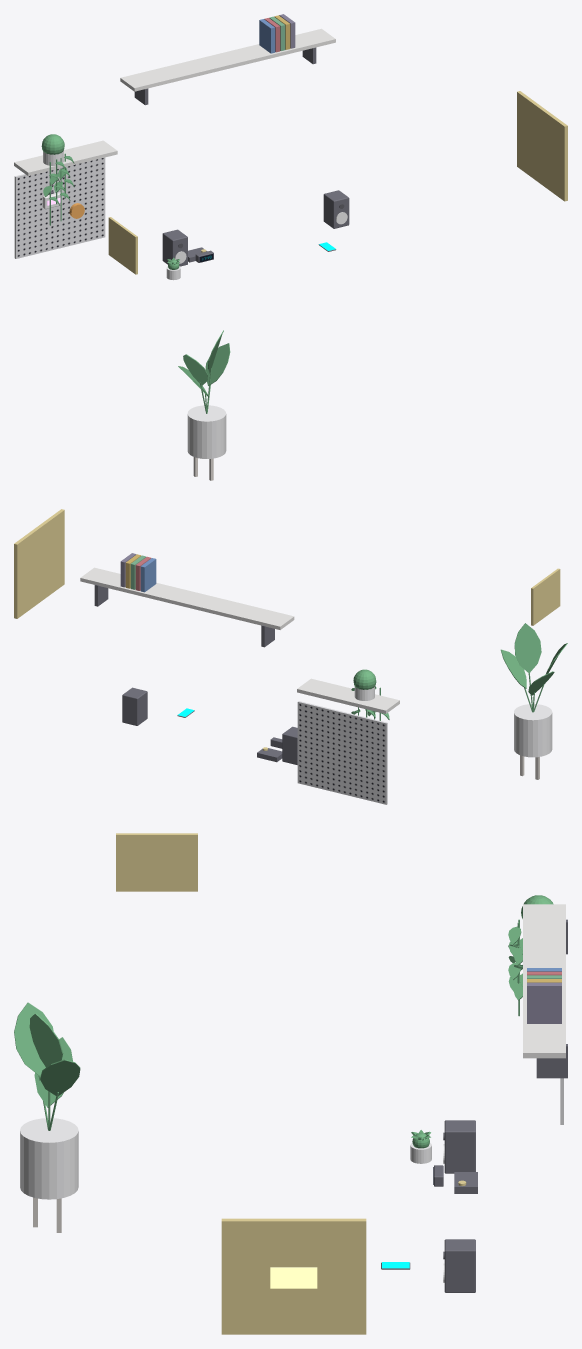
Rendered from group-b-props.95867245.glb.
3 views of the same model, one above another, from view 1: azimuth 30°, elevation 25°; view 2: azimuth 150°, elevation 25°; view 3: azimuth 270°, elevation 25° (orthographic). The views are drawn at different scales.
Visible parts, largest first — view 1: pegboard_panel, painting_frame, shelf_rear_upper, pot_monstera, shelf_rear_lower, certificate_frame, speaker_right_cabinet, speaker_left_cabinet; view 2: pegboard_panel, painting_frame, shelf_rear_upper, pot_monstera, shelf_rear_lower, certificate_frame, monstera_leaf_4, speaker_right_cabinet, speaker_left_cabinet, book_vol_1, monstera_leaf_2, ivy_mound; view 3: painting_frame, certificate_frame, shelf_rear_upper, pot_monstera, speaker_right_cabinet, speaker_left_cabinet, book_vol_5, monstera_leaf_3, monstera_leaf_4, hidden-yor-mark, monstera_leaf_2, shelf_bracket_r.
Part boxes in pixels (x1,y1,x2,y2): pegboard_panel: (14,157,105,258); painting_frame: (517,91,567,201); shelf_rear_upper: (120,28,335,91); pot_monstera: (187,405,226,458); shelf_rear_lower: (14,140,117,176); certificate_frame: (108,217,137,274); speaker_right_cabinet: (323,190,349,228); speaker_left_cabinet: (162,229,187,266); pegboard_panel: (297,701,387,804); painting_frame: (14,509,64,618); shelf_rear_upper: (80,567,294,629); pot_monstera: (514,704,552,757); shelf_rear_lower: (297,678,399,713); certificate_frame: (531,568,560,625); monstera_leaf_4: (514,623,541,673); speaker_right_cabinet: (122,687,147,725); speaker_left_cabinet: (282,726,297,764); book_vol_1: (140,558,156,592); monstera_leaf_2: (500,649,526,688); ivy_mound: (353,669,376,689); painting_frame: (221,1218,366,1334); certificate_frame: (116,833,197,891); shelf_rear_upper: (523,904,565,1058); pot_monstera: (20,1118,78,1199); speaker_right_cabinet: (444,1239,475,1292); speaker_left_cabinet: (444,1120,475,1173); book_vol_5: (527,982,561,1023); monstera_leaf_3: (14,1002,53,1075); monstera_leaf_4: (29,1013,63,1067); hidden-yor-mark: (270,1267,317,1288); monstera_leaf_2: (40,1059,80,1095); shelf_bracket_r: (536,1044,567,1078).
Size of the model in its own units: 4.18 by 2.38 by 2.83.
21 materials, 3 textured.
